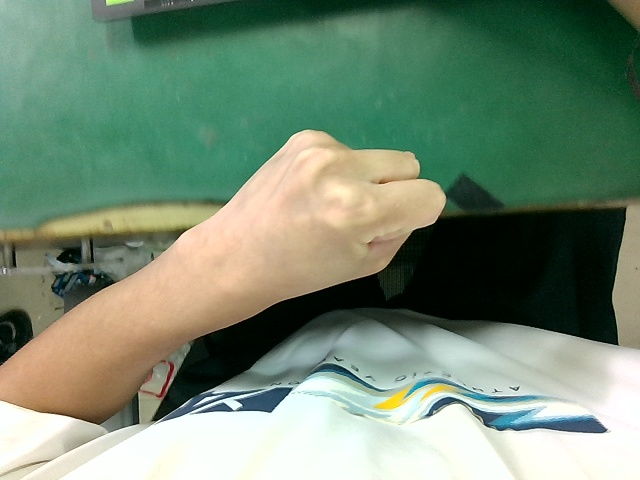stone: (205, 113, 464, 318)
